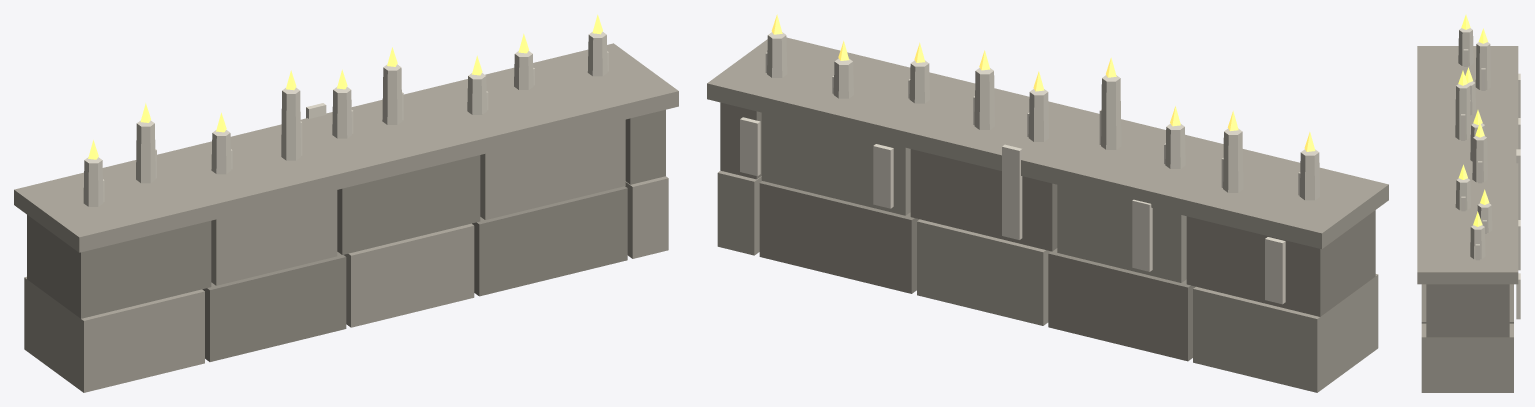
The model's file is candle_ledge.glb.
3 renders of one model, left to right at view 1: azimuth 30°, elevation 25°; view 2: azimuth 150°, elevation 25°; view 3: azimuth 270°, elevation 25°, orthographic. The views are drawn at different scales.
Visible parts, largest first — view 1: bone_d22, bone_d32, bone_l10, ember_l10_glow; view 2: bone_d22, bone_d32, bone_l10, ember_l10_glow; view 3: bone_d22, bone_l10, bone_d32, ember_l10_glow.
Boxes of the visible parts, <box> form: bone_d22: <box>14,43,678,392</box>; bone_d32: <box>27,109,665,361</box>; bone_l10: <box>83,31,608,206</box>; ember_l10_glow: <box>88,14,602,159</box>; bone_d22: <box>707,37,1388,392</box>; bone_d32: <box>720,102,1375,361</box>; bone_l10: <box>740,32,1319,304</box>; ember_l10_glow: <box>771,14,1315,151</box>; bone_d22: <box>1417,46,1518,392</box>; bone_l10: <box>1455,28,1520,319</box>; bone_d32: <box>1421,284,1513,337</box>; ember_l10_glow: <box>1458,14,1489,226</box>.
Size of the model in its own units: 2.44 by 0.9582 by 0.47.
